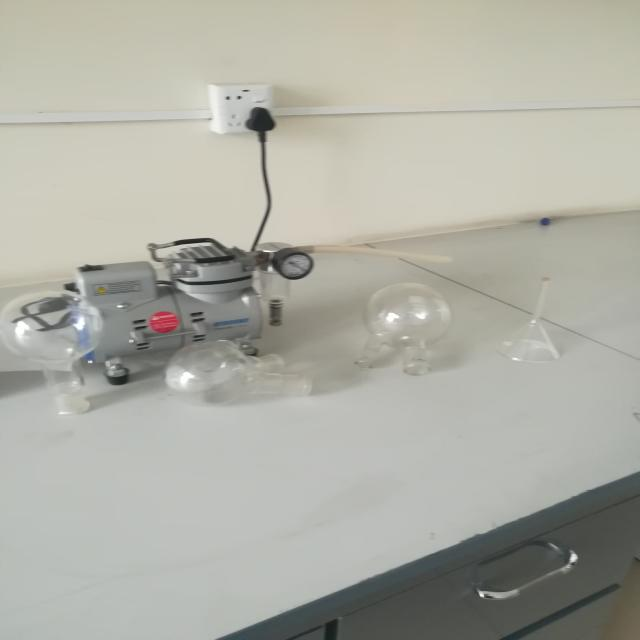Funnel: (489, 254, 576, 382)
Round_Bottom_Flask_Borosilicate_Glass_1_Neck: (0, 260, 110, 431)
Round_Bottom_Flask_Borosilicate_Glass_2_Neck: (340, 253, 463, 392)
Round_Bottom_Flask_Borosilicate_Glass_3_Neck: (162, 310, 323, 440)
